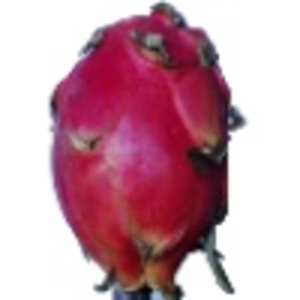pitaia: (49, 1, 248, 300)
